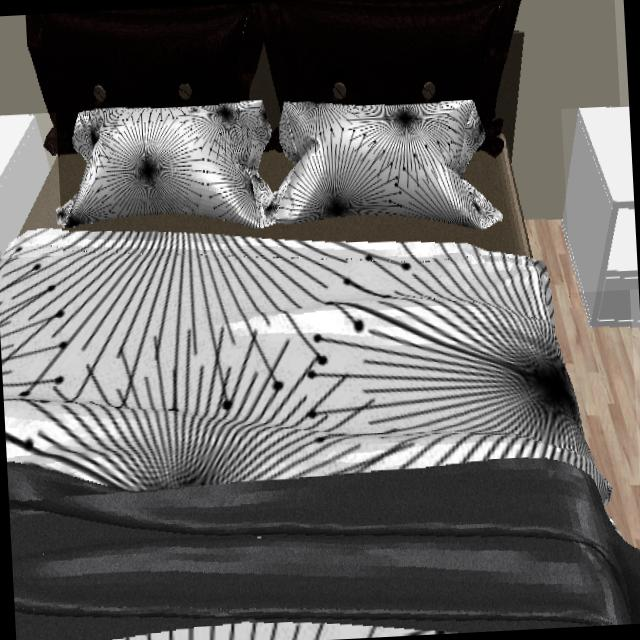bed: (0, 0, 640, 640)
nighttable: (567, 108, 639, 292), (0, 117, 58, 258)
